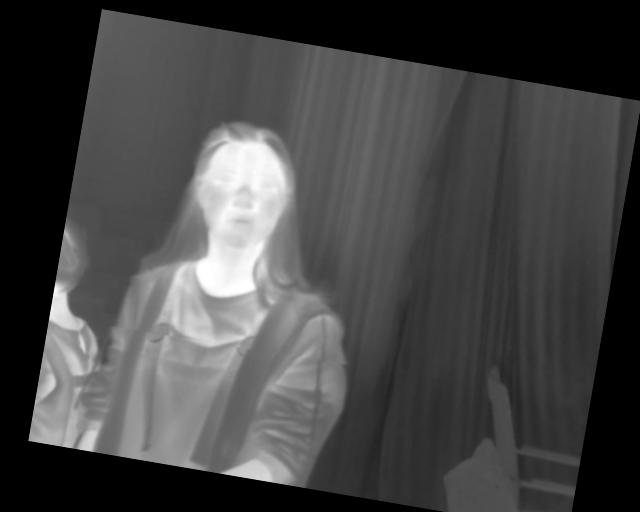face: (186, 114, 299, 254)
